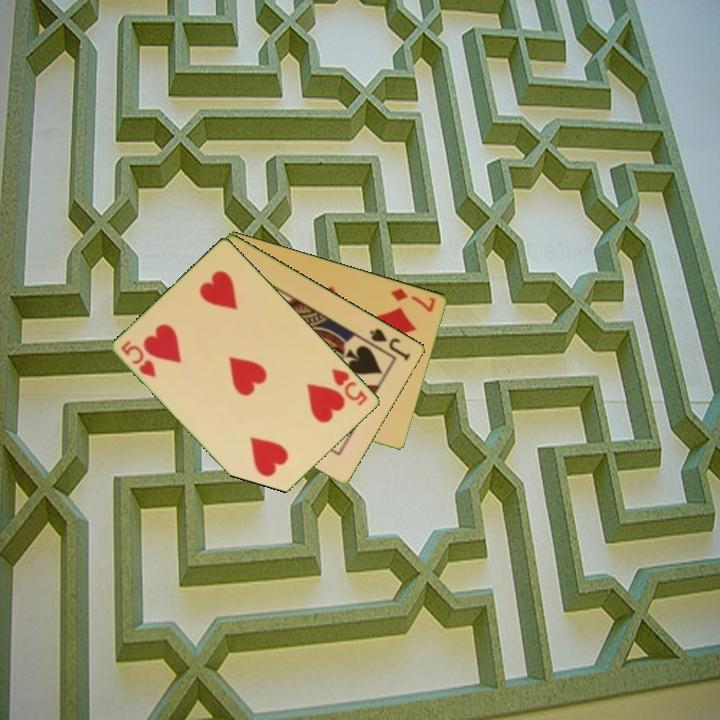5h: (328, 364, 371, 409), (118, 337, 160, 380)
7d: (388, 284, 439, 315)
Js: (367, 325, 414, 363)
